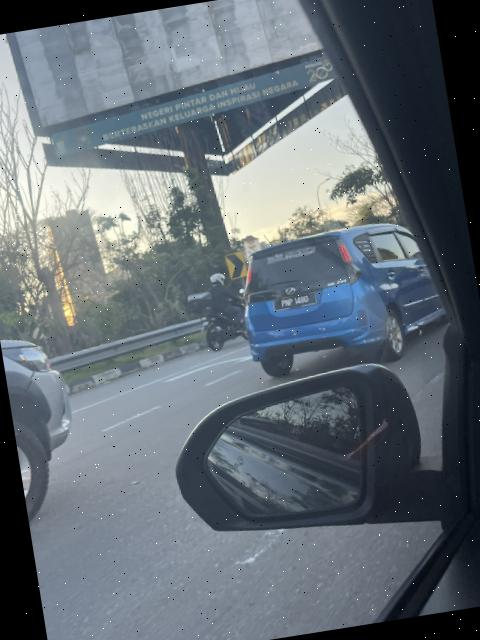License_Plate: (270, 290, 325, 316)
car: (231, 222, 447, 382)
